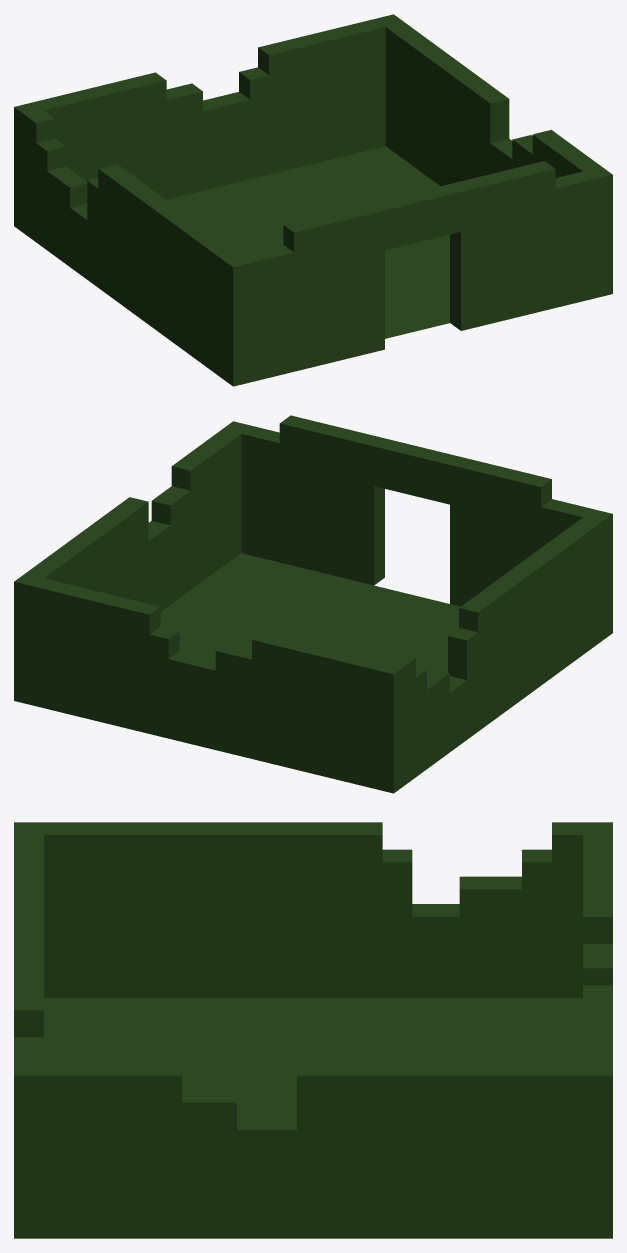
Rendered from ruina 2.fbx.
3 renders of one model, top to bottom at view 1: azimuth 30°, elevation 25°; view 2: azimuth 150°, elevation 25°; view 3: azimuth 270°, elevation 25°, orthographic. The views are drawn at different scales.
Parts seen in each view (by area): view 1: ruina 3; view 2: ruina 3; view 3: ruina 3.
Boxes of the visible parts, x1,y1,x2,y2 form: ruina 3: [14, 14, 612, 386]; ruina 3: [14, 415, 612, 793]; ruina 3: [14, 822, 612, 1238].
Size of the model in its own units: 1000 by 350 by 1000.
